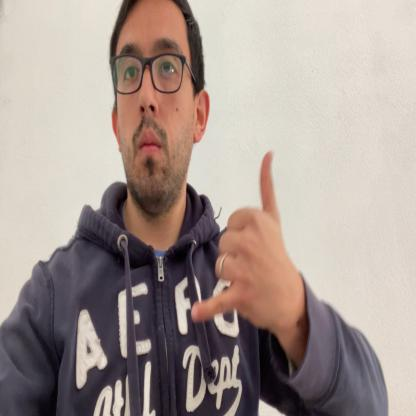Y: (190, 152, 294, 338)
